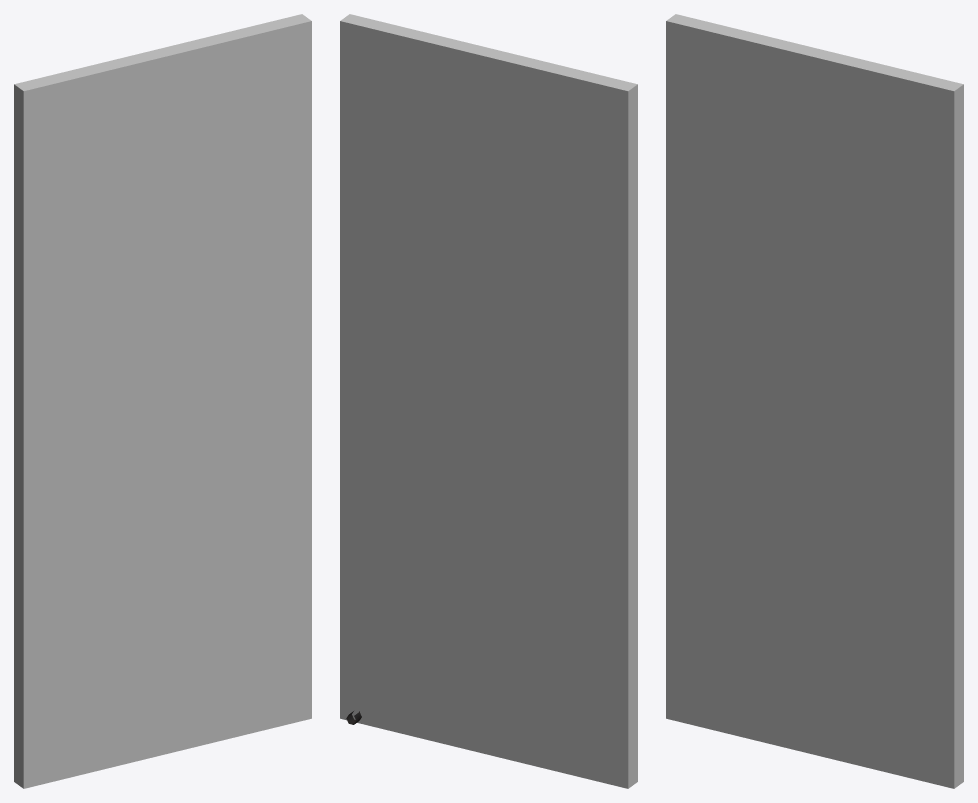
Rendered from pipes_04.DAE.
The picture shows the model from 3 angles, left to right: view 1: azimuth 30°, elevation 25°; view 2: azimuth 150°, elevation 25°; view 3: azimuth 330°, elevation 25°; orthographic projection.
Parts seen in each view (by area): view 1: bounds; view 2: bounds; view 3: bounds.
Boxes of the visible parts, left/top/right/bottom form: bounds: left=14, top=14, right=311, bottom=788; bounds: left=340, top=14, right=637, bottom=788; bounds: left=666, top=14, right=963, bottom=788.
Size of the model in its own units: 339 by 31.05 by 785.
